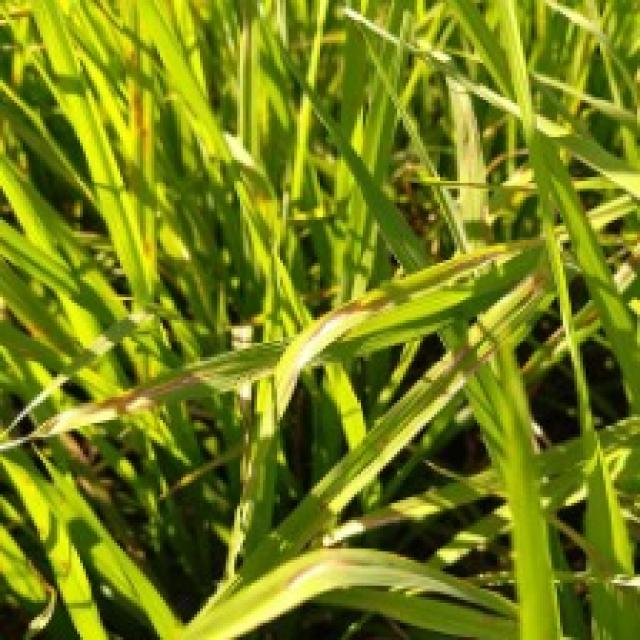Rice___Rice_Blast: (0, 191, 637, 445), (183, 246, 588, 633)
